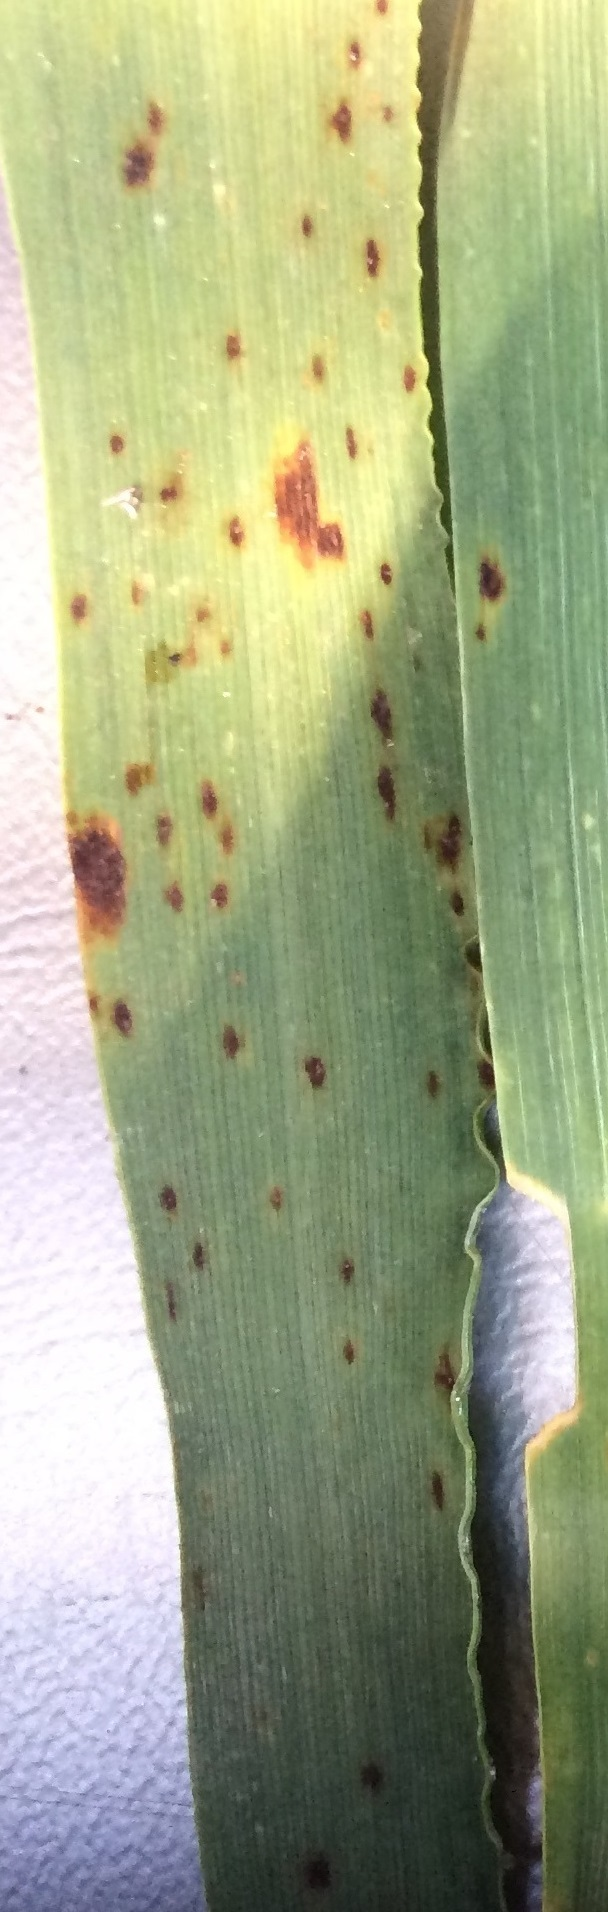Bercak Coklat: (256, 429, 320, 563), (355, 679, 406, 756), (108, 139, 178, 195), (359, 756, 409, 830), (294, 332, 342, 404), (415, 805, 464, 877), (411, 1456, 459, 1523), (463, 545, 515, 607), (289, 1035, 336, 1101), (197, 319, 260, 369), (344, 235, 397, 293), (314, 93, 366, 151), (422, 1338, 461, 1412), (207, 1015, 253, 1077), (246, 1169, 299, 1224), (135, 801, 185, 858), (121, 743, 163, 808), (309, 504, 351, 571), (346, 1744, 394, 1799), (294, 194, 327, 268), (106, 983, 143, 1047), (133, 89, 179, 139), (411, 1057, 453, 1111), (329, 415, 370, 469), (179, 1230, 223, 1280), (386, 354, 426, 406), (147, 1173, 188, 1225), (457, 932, 497, 983), (210, 506, 253, 551), (58, 588, 102, 632), (346, 606, 391, 649), (325, 1246, 372, 1288), (150, 465, 190, 512), (333, 33, 375, 76), (147, 877, 191, 918), (184, 773, 223, 819), (208, 869, 238, 930), (458, 613, 498, 657), (440, 877, 476, 923), (366, 554, 406, 595), (210, 813, 247, 857), (94, 426, 135, 462), (372, 95, 402, 133), (327, 1343, 367, 1371)
